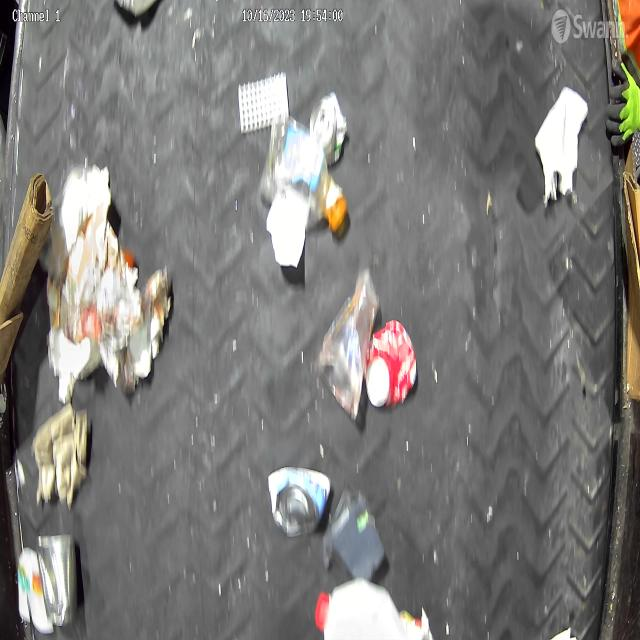can: (260, 455, 339, 538), (366, 314, 416, 422), (32, 519, 80, 629)
milk_jug: (313, 566, 415, 640)
